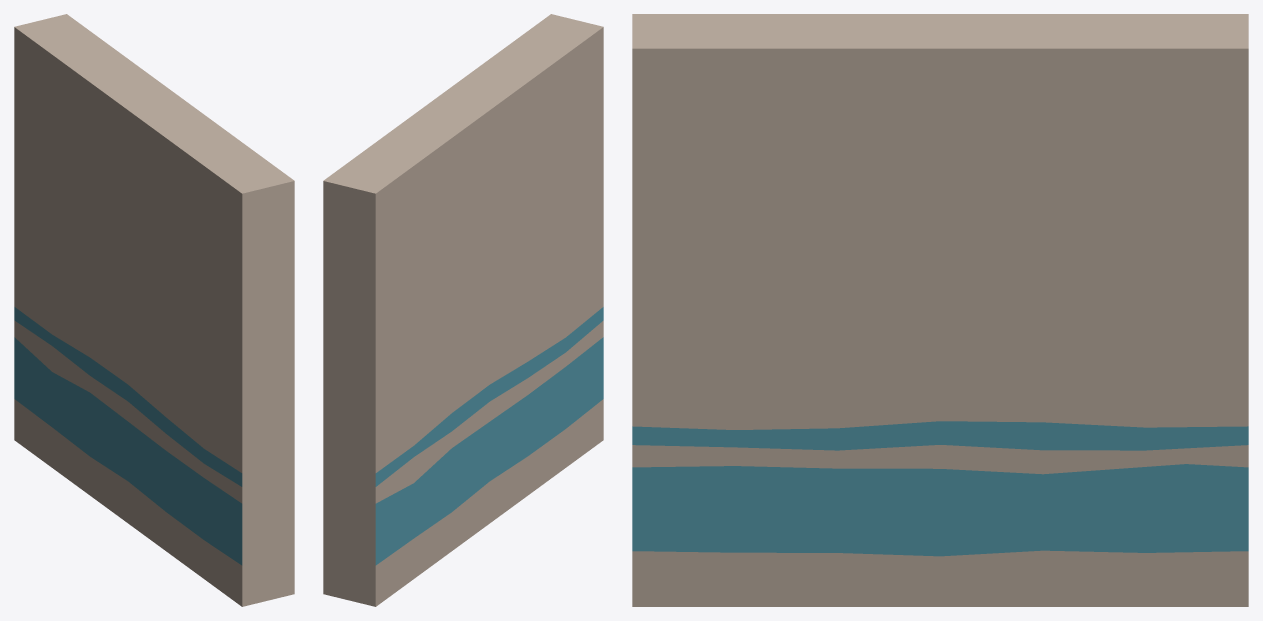
File: greek_wall_3.fbx
3 renders of one model, left to right at view 1: azimuth 30°, elevation 25°; view 2: azimuth 150°, elevation 25°; view 3: azimuth 270°, elevation 25°, orthographic. The views are drawn at different scales.
Visible parts, largest first — view 1: Cube.053; view 2: Cube.053; view 3: Cube.053.
Boxes of the visible parts, x1,y1,x2,y2 form: Cube.053: (14, 14, 294, 606); Cube.053: (323, 14, 603, 606); Cube.053: (632, 14, 1248, 606).
Bounding box in the file's own units: 40 × 300 × 300.
